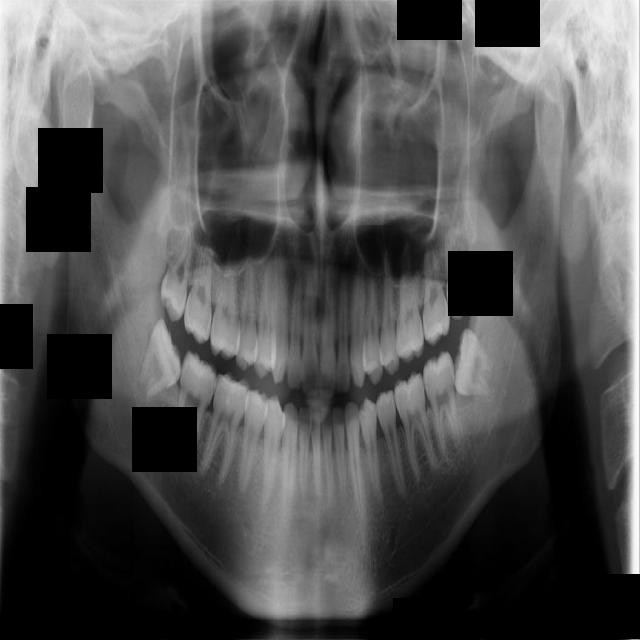3M ESPE Implant: (156, 214, 198, 324)
73: (602, 567, 606, 582)
BioHorizons Implant: (423, 221, 450, 347)
BioLife Implant: (441, 221, 475, 322)
Biomet 3i Implant: (449, 326, 501, 400)
Blue Sky Bio Implant: (421, 349, 462, 459)
Caries: (183, 220, 214, 345)
Implant: (168, 349, 221, 463)
Keystone Dental Implant: (133, 317, 195, 410)
